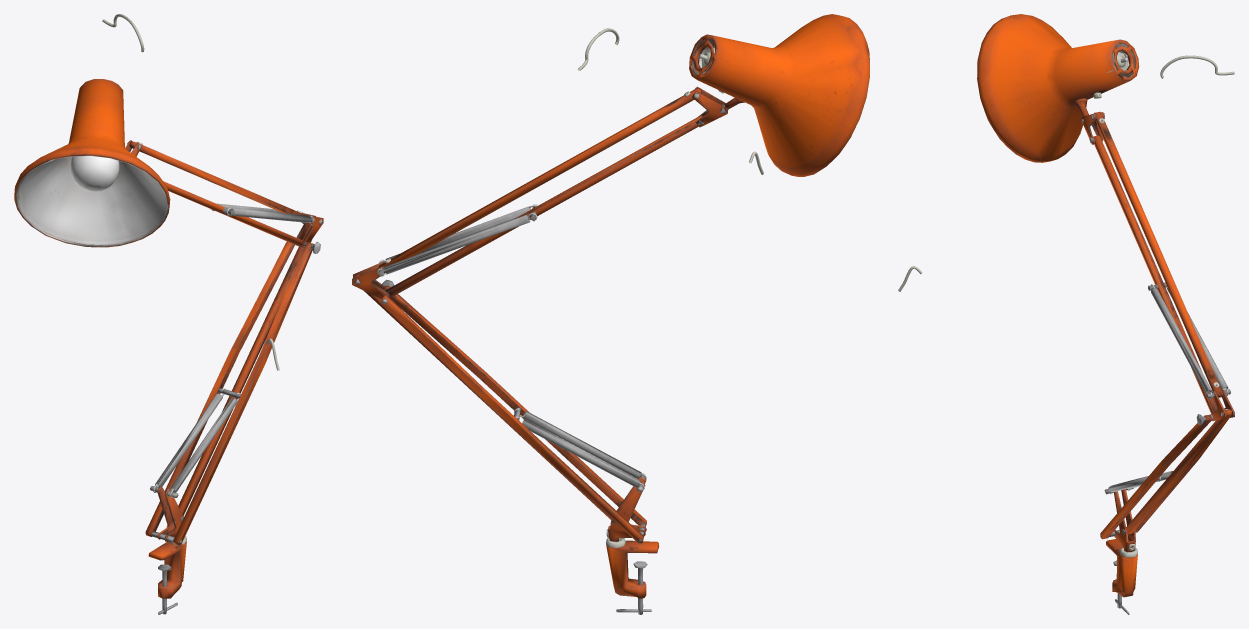
Rendered from LodDeskLamp.fbx.
3 renders of one model, left to right at view 1: azimuth 30°, elevation 25°; view 2: azimuth 150°, elevation 25°; view 3: azimuth 270°, elevation 25°, orthographic. The views are drawn at different scales.
Parts seen in each view (by area): view 1: geo_lamp-head, geo_arm_1_c, geo_arm_1_b, geo_arm_1_a, geo_arm_2_a, geo_base_pivot, geo_arm_2_b, geo_lamp-base-pivot, geo_lower-spring_a, geo_lower-spring_b, geo_top-spring_b, geo_middle-pivot; view 2: geo_lamp-head, geo_arm_1_b, geo_arm_2_a, geo_arm_2_b, geo_arm_1_c, geo_base_pivot, geo_top-spring_a, geo_lower-spring_b, geo_lower-spring_a, geo_lamp-base-pivot, geo_middle-pivot, geo_top-spring_b (+2 smaller); view 3: geo_lamp-head, geo_arm_2_a, geo_arm_2_b, geo_arm_1_c, geo_arm_1_a, geo_base_pivot, geo_top-spring_b, geo_lamp-base-pivot, geo_middle-pivot, geo_arm_1_b.
Part boxes in pixels (x1,y1,x2,y2): geo_lamp-head: (14,79,170,247); geo_arm_1_c: (173,242,314,544); geo_arm_1_b: (145,241,294,536); geo_arm_1_a: (178,224,311,515); geo_arm_2_a: (129,141,305,215); geo_base_pivot: (148,536,186,598); geo_arm_2_b: (163,181,303,247); geo_lamp-base-pivot: (150,486,183,543); geo_lower-spring_a: (155,393,222,487); geo_lower-spring_b: (170,398,237,492); geo_top-spring_b: (230,208,311,222); geo_middle-pivot: (296,213,323,253); geo_lamp-head: (689,14,869,176); geo_arm_1_b: (381,295,643,543); geo_arm_2_a: (378,88,701,267); geo_arm_2_b: (385,115,702,297); geo_arm_1_c: (385,285,646,525); geo_base_pivot: (606,537,659,598); geo_top-spring_a: (384,214,530,274); geo_lower-spring_b: (522,411,641,478); geo_lower-spring_a: (522,419,639,487); geo_lamp-base-pivot: (606,473,646,542); geo_middle-pivot: (352,260,394,304); geo_top-spring_b: (385,206,531,259); geo_lamp-head: (977,14,1139,162); geo_arm_2_a: (1094,111,1222,397); geo_arm_2_b: (1093,135,1217,413); geo_arm_1_c: (1100,414,1211,539); geo_arm_1_a: (1126,409,1231,534); geo_base_pivot: (1106,539,1137,597); geo_top-spring_b: (1151,288,1212,393); geo_lamp-base-pivot: (1100,488,1135,552); geo_middle-pivot: (1196,389,1234,425); geo_arm_1_b: (1135,419,1228,532).
Bounding box in the file's own units: 59.78 × 83.11 × 45.98.
